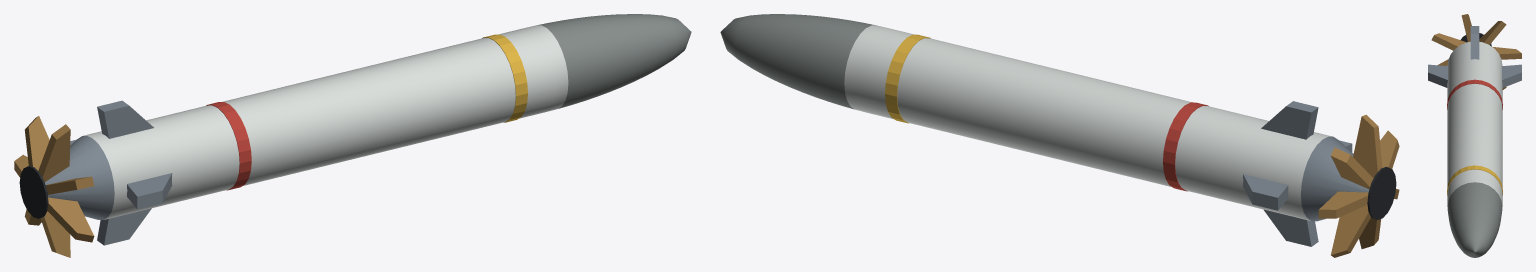
File: pla_yu7.glb
3 views of the same model, side by side, from view 1: azimuth 30°, elevation 25°; view 2: azimuth 150°, elevation 25°; view 3: azimuth 270°, elevation 25° (orthographic). The views are drawn at different scales.
Visible parts, largest first — view 1: missile_body, seeker, titanium, bronze, marking_yellow, hazard_red, rubber; view 2: missile_body, seeker, titanium, bronze, marking_yellow, hazard_red, rubber; view 3: missile_body, seeker, bronze, titanium, marking_yellow, hazard_red, rubber.
Boxes of the visible parts, x1,y1,x2,y2 form: missile_body: [83, 25, 568, 219]; seeker: [537, 14, 691, 108]; titanium: [45, 100, 172, 245]; bronze: [14, 116, 94, 257]; marking_yellow: [482, 34, 527, 122]; hazard_red: [206, 102, 251, 190]; rubber: [19, 166, 48, 218]; missile_body: [844, 25, 1332, 220]; seeker: [720, 14, 876, 109]; titanium: [1243, 101, 1369, 246]; bronze: [1318, 114, 1399, 257]; marking_yellow: [885, 34, 930, 123]; hazard_red: [1163, 102, 1208, 191]; rubber: [1367, 167, 1396, 219]; missile_body: [1447, 42, 1502, 206]; seeker: [1447, 182, 1502, 257]; bronze: [1431, 14, 1521, 89]; titanium: [1428, 26, 1521, 87]; marking_yellow: [1447, 165, 1502, 195]; hazard_red: [1447, 79, 1502, 109]; rubber: [1460, 33, 1491, 46].
Bounding box in the file's own units: 10 × 1.94 × 1.94.
